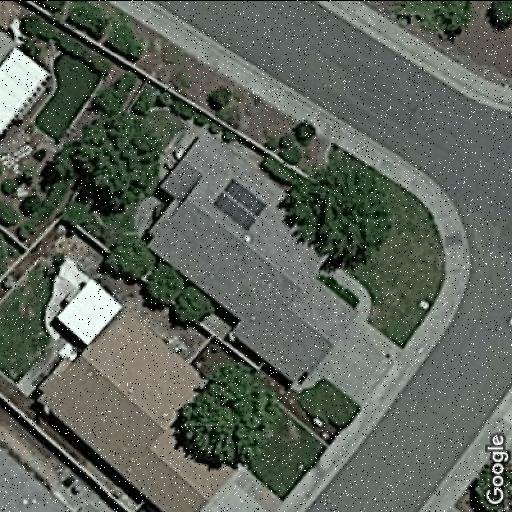solar-panel: (210, 175, 268, 231)
